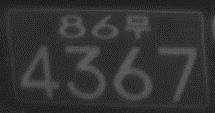3: (64, 44, 106, 102)
4: (19, 45, 59, 99)
6: (112, 46, 153, 102), (90, 14, 118, 40)
7: (157, 45, 197, 103)
8: (58, 13, 86, 39)
무: (124, 14, 152, 39)
